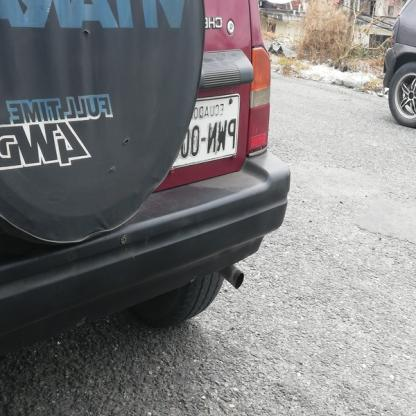Placa: (151, 96, 243, 176)
